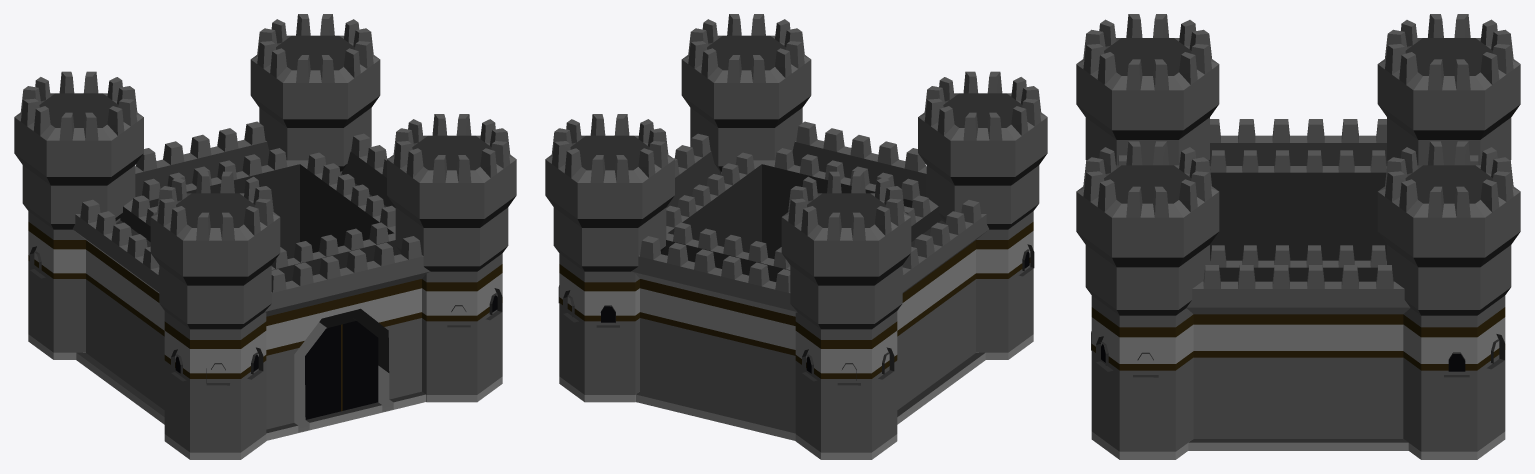
The model's file is PlayerBase2.obj.
3 renders of one model, left to right at view 1: azimuth 30°, elevation 25°; view 2: azimuth 150°, elevation 25°; view 3: azimuth 270°, elevation 25°, orthographic. The views are drawn at different scales.
Visible parts, largest first — view 1: main_Plane.001, tower01_Cylinder, tower02_Cylinder.008, tower04_Cylinder.010, tower03_Cylinder.009; view 2: main_Plane.001, tower04_Cylinder.010, tower03_Cylinder.009, tower01_Cylinder, tower02_Cylinder.008; view 3: main_Plane.001, tower02_Cylinder.008, tower03_Cylinder.009, tower01_Cylinder, tower04_Cylinder.010.
Part boxes in pixels (x1,y1,x2,y2): main_Plane.001: [73, 121, 430, 440]; tower01_Cylinder: [150, 171, 280, 459]; tower02_Cylinder.008: [387, 114, 516, 402]; tower04_Cylinder.010: [14, 71, 143, 359]; tower03_Cylinder.009: [250, 14, 380, 173]; main_Plane.001: [631, 121, 988, 440]; tower04_Cylinder.010: [781, 171, 911, 459]; tower03_Cylinder.009: [545, 114, 674, 402]; tower01_Cylinder: [918, 71, 1047, 359]; tower02_Cylinder.008: [681, 14, 811, 173]; main_Plane.001: [1118, 119, 1479, 450]; tower02_Cylinder.008: [1076, 141, 1219, 459]; tower03_Cylinder.009: [1377, 141, 1520, 459]; tower01_Cylinder: [1076, 14, 1219, 165]; tower04_Cylinder.010: [1377, 14, 1520, 165].
Bounding box in the file's own units: 2.89 × 2.04 × 3.02.
